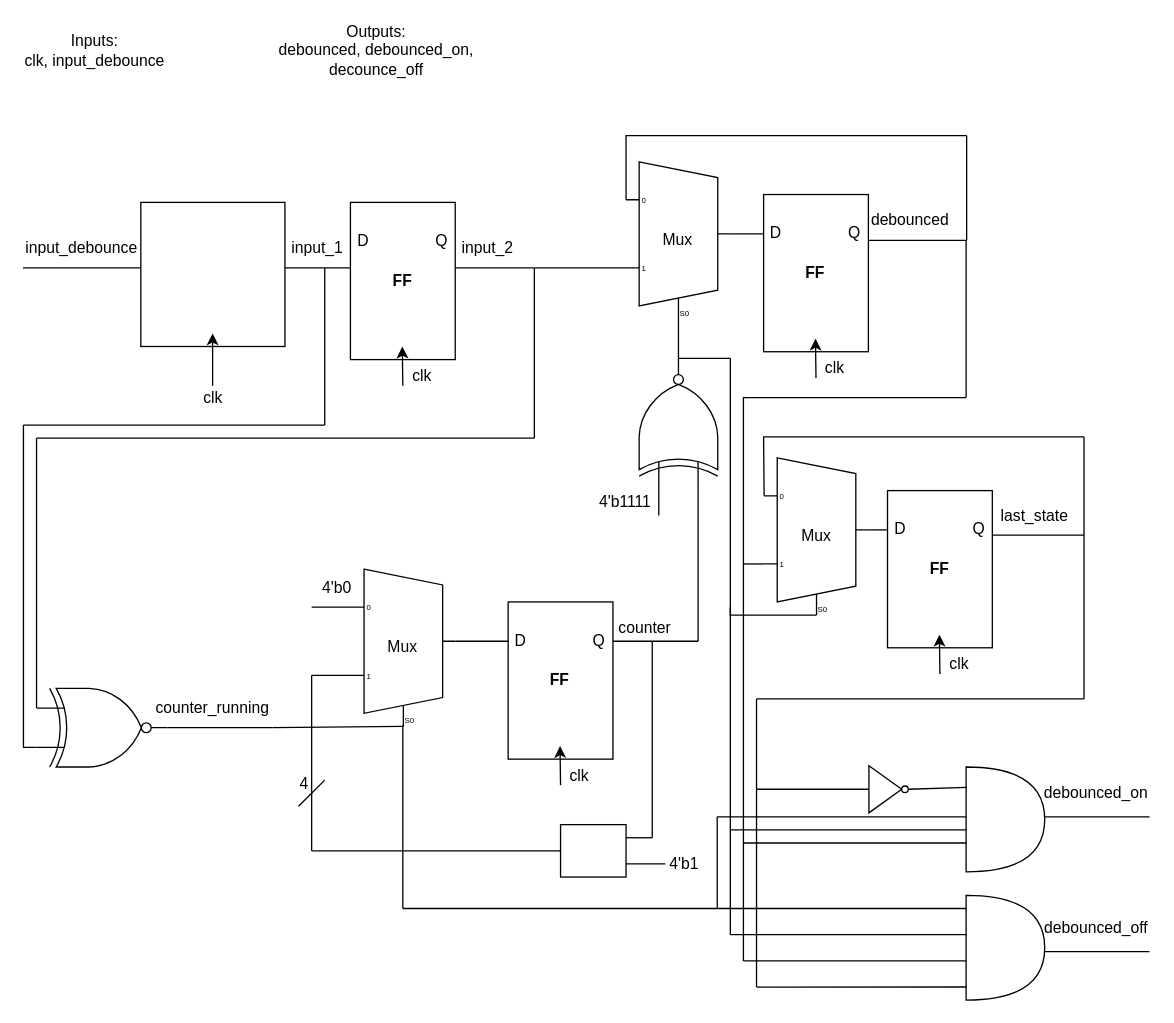
Image size: 1174x1023. Some labels were removed from this diagram. Here are the shapes that lost their labels. From the top down, the centre of each, then its label:
the point at 212,273: InputSynchronizer
the point at 592,850: 4-bit Adder
